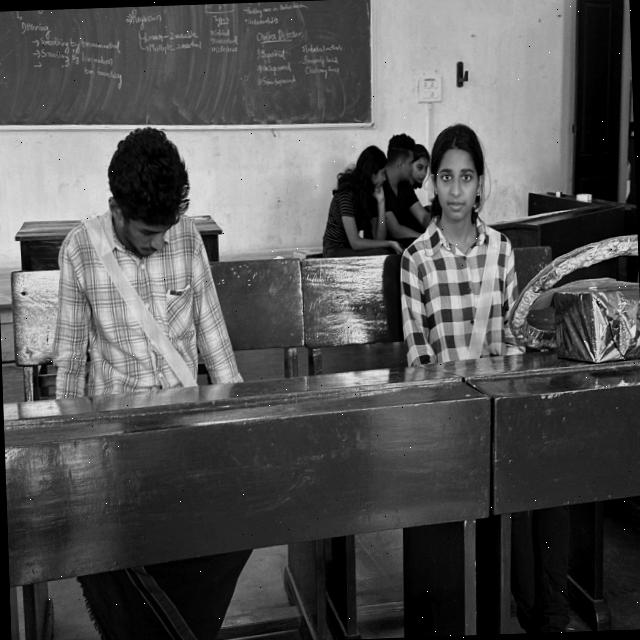seatbelt: (47, 210, 248, 412), (395, 198, 547, 372)
